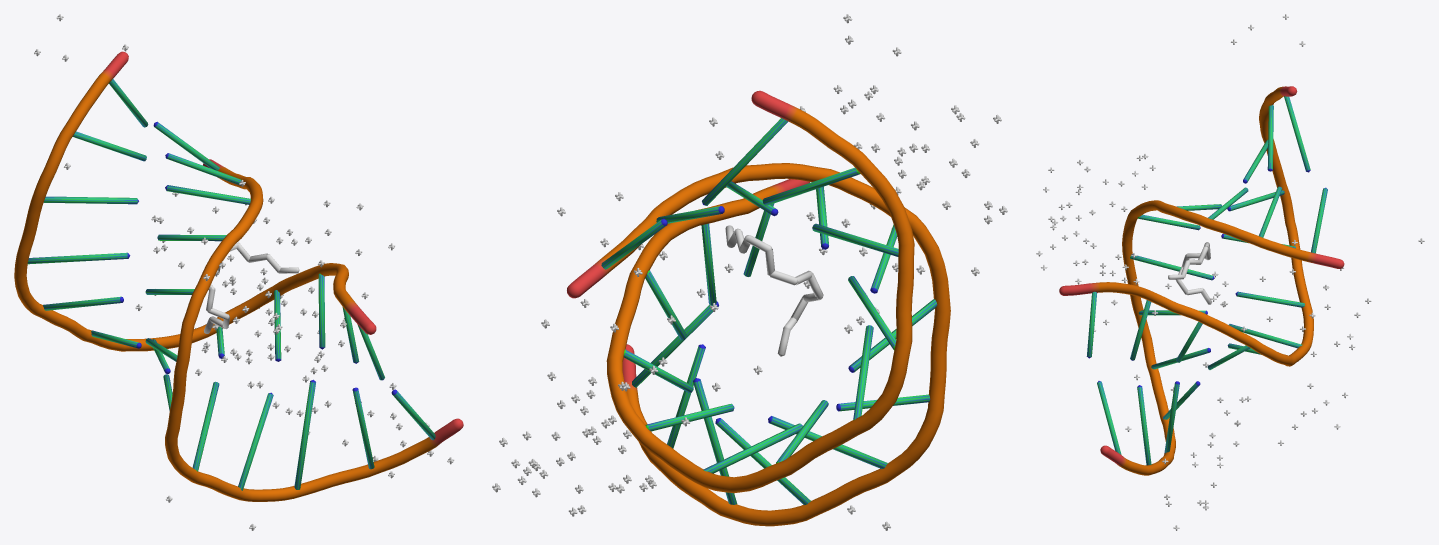
File: B-DNA.fbx
3 views of the same model, side by side, from view 1: azimuth 30°, elevation 25°; view 2: azimuth 150°, elevation 25°; view 3: azimuth 270°, elevation 25° (orthographic). The views are drawn at different scales.
Visible parts, largest first — view 1: node-geom19, node-geom29, node-geom40, node-geom41, node-geom28, node-geom27, node-geom22, node-geom39, node-geom30, node-geom21, node-geom42, node-geom20; view 2: node-geom19, node-geom43, node-geom37, node-geom29, node-geom42, node-geom28, node-geom39, node-geom31, node-geom41, node-geom27, node-geom30, node-geom36 (+7 smaller); view 3: node-geom19, node-geom30.
Boxes of the visible parts, x1,y1,x2,y2 form: node-geom19: [14, 51, 463, 501]; node-geom29: [294, 379, 315, 489]; node-geom40: [27, 252, 130, 264]; node-geom41: [43, 196, 138, 204]; node-geom28: [238, 392, 273, 490]; node-geom27: [192, 381, 219, 471]; node-geom22: [165, 185, 250, 204]; node-geom39: [43, 296, 123, 310]; node-geom30: [352, 387, 374, 469]; node-geom21: [165, 153, 241, 185]; node-geom42: [72, 131, 146, 161]; node-geom20: [153, 121, 219, 170]; node-geom19: [567, 90, 950, 526]; node-geom43: [702, 118, 788, 205]; node-geom37: [703, 423, 802, 473]; node-geom29: [693, 378, 737, 504]; node-geom42: [762, 167, 860, 205]; node-geom28: [715, 418, 810, 504]; node-geom39: [853, 325, 873, 420]; node-geom31: [632, 301, 718, 387]; node-geom41: [812, 223, 898, 256]; node-geom27: [768, 416, 887, 468]; node-geom30: [667, 344, 705, 448]; node-geom36: [645, 403, 734, 431]; node-geom19: [1059, 86, 1344, 475]; node-geom30: [1137, 385, 1151, 465].
Size of the model in its own units: 3380 by 4162 by 3770.
